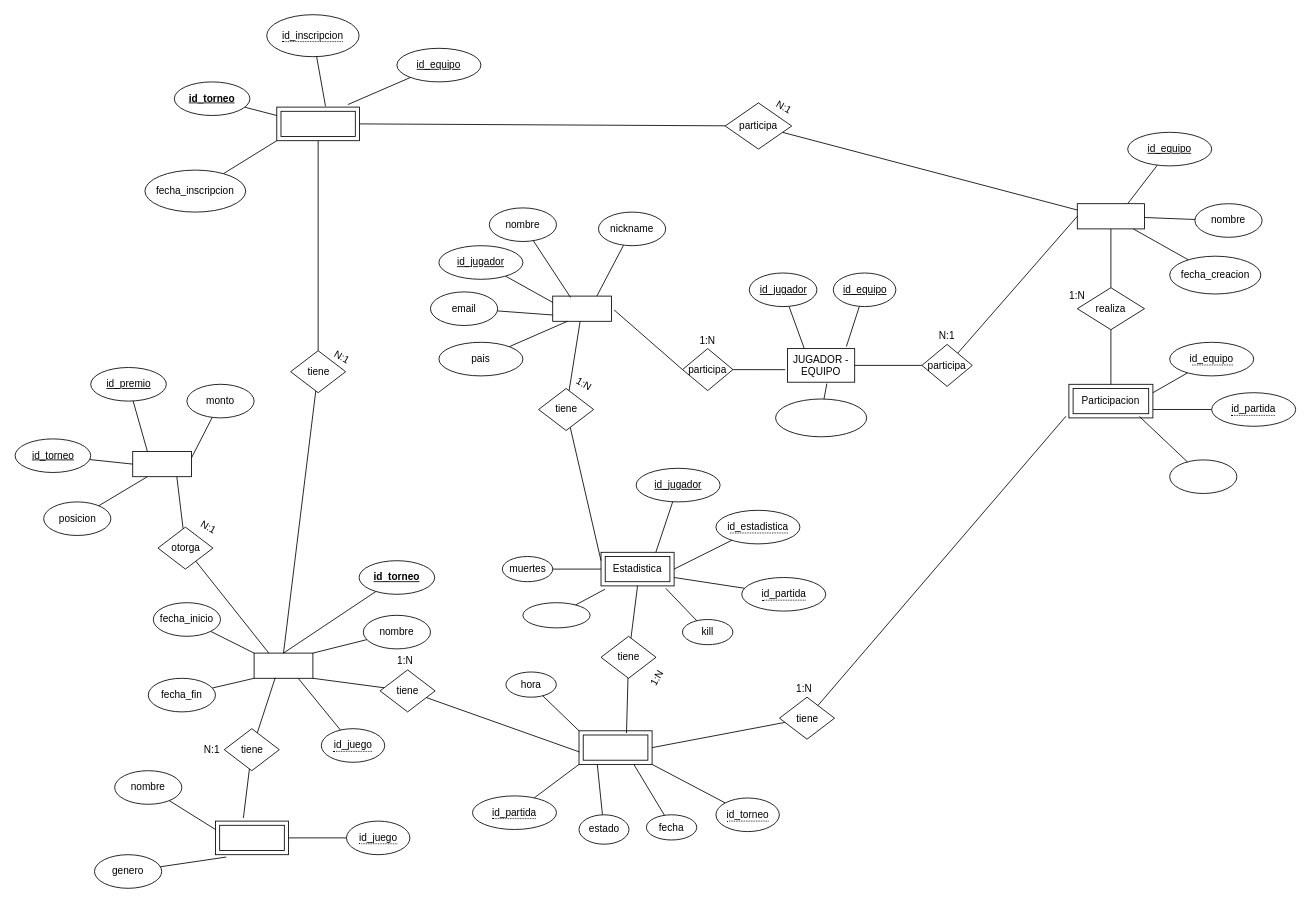
Some shapes in this 1310 by 903 pixel diagram are drawn without their labels. Here are the shapes that lost their labels. From the top down, the centre of each, then its label:
At pixel 318 123: "inscripcion".
At pixel 1110 216: "EQUIPO".
At pixel 582 308: "JUGADOR".
At pixel 821 417: "fecha_union".
At pixel 162 464: "Premio".
At pixel 1203 476: "resultado".
At pixel 556 615: "asistencias".
At pixel 283 665: "Torneo".
At pixel 615 747: "Partida".
At pixel 252 837: "Juego".
